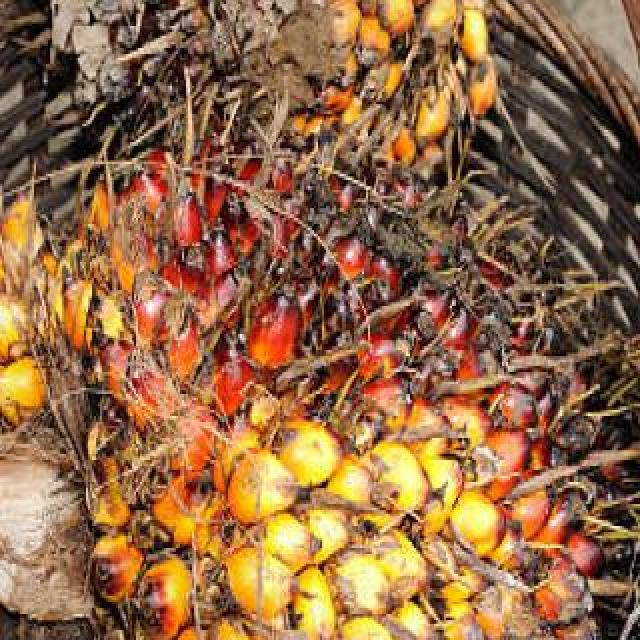Ripe: (0, 182, 618, 640), (98, 0, 504, 154)
